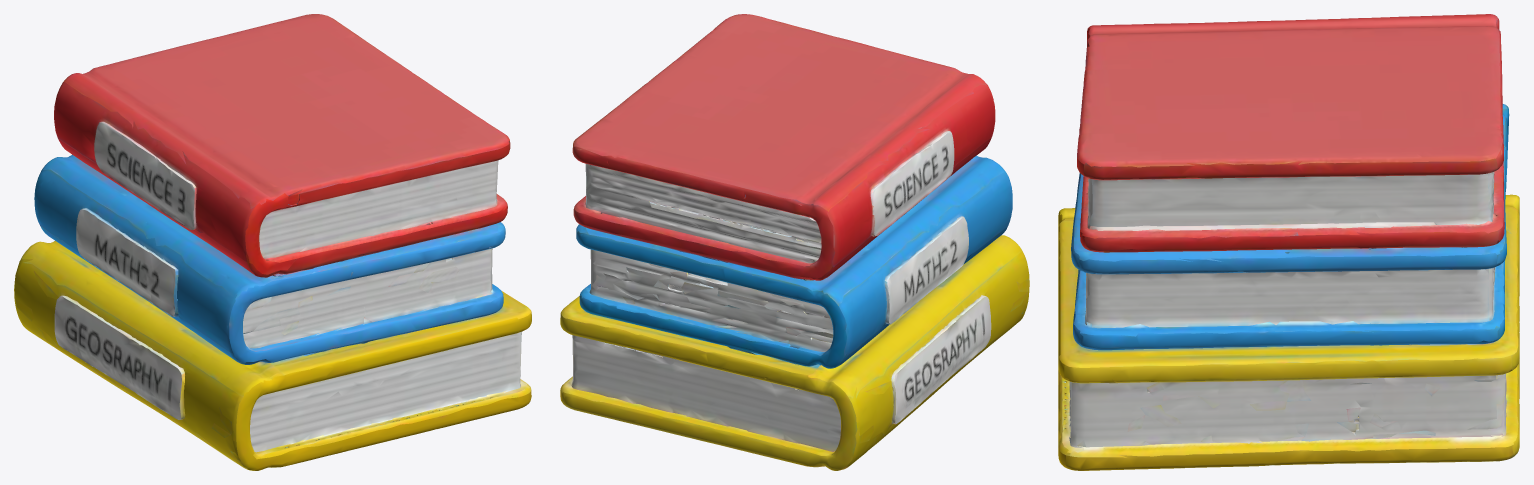
Rendered from books.glb.
The picture shows the model from 3 angles, left to right: view 1: azimuth 30°, elevation 25°; view 2: azimuth 150°, elevation 25°; view 3: azimuth 270°, elevation 25°; orthographic projection. The views are drawn at different scales.
Parts seen in each view (by area): view 1: geometry_0; view 2: geometry_0; view 3: geometry_0.
Part boxes in pixels (x1,y1,x2,y2): geometry_0: (14,14,531,470); geometry_0: (560,14,1029,470); geometry_0: (1058,14,1519,470).
Size of the model in its own units: 0.21 by 0.1612 by 0.2225.
1 material, 1 textured.
